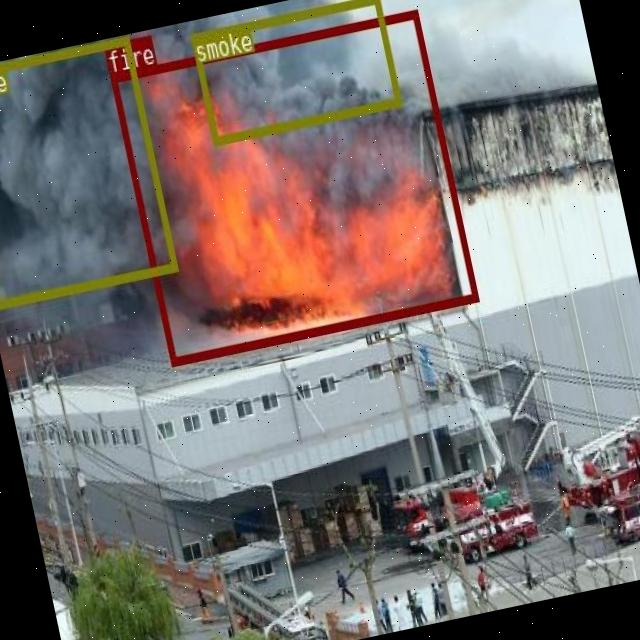fire: (109, 8, 478, 365)
smoke: (0, 34, 176, 309), (188, 0, 399, 143)
